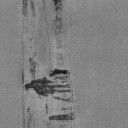slag inclusion: (22, 56, 72, 103), (51, 0, 64, 34), (22, 96, 32, 128), (21, 0, 35, 18), (50, 112, 76, 121), (41, 0, 48, 24), (62, 106, 72, 112), (46, 103, 50, 114)
